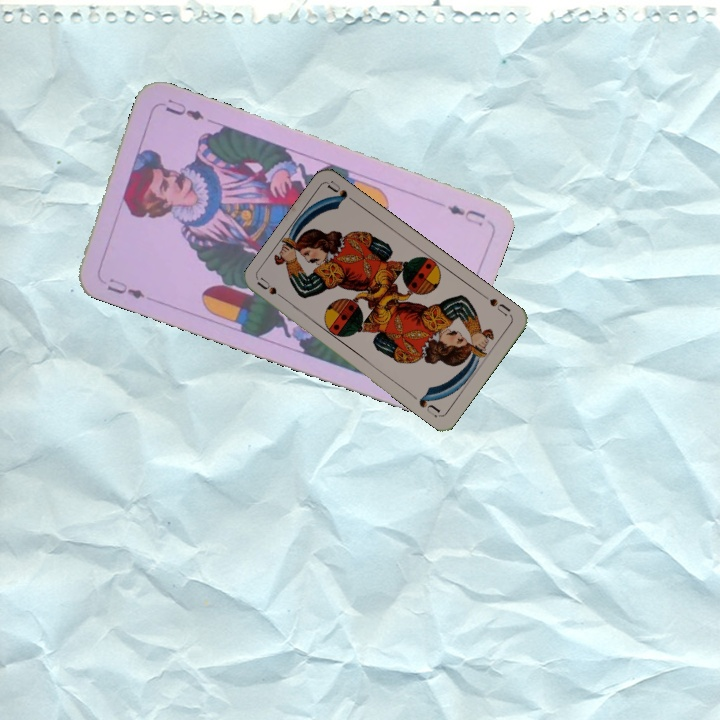EU: (443, 200, 489, 229), (103, 274, 148, 302)
SU: (254, 274, 291, 305), (479, 291, 514, 319)
